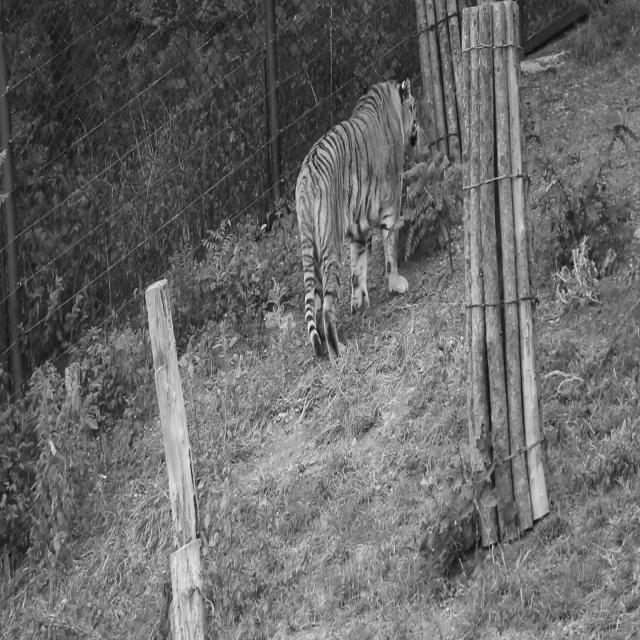Tiger: (294, 75, 422, 364)
